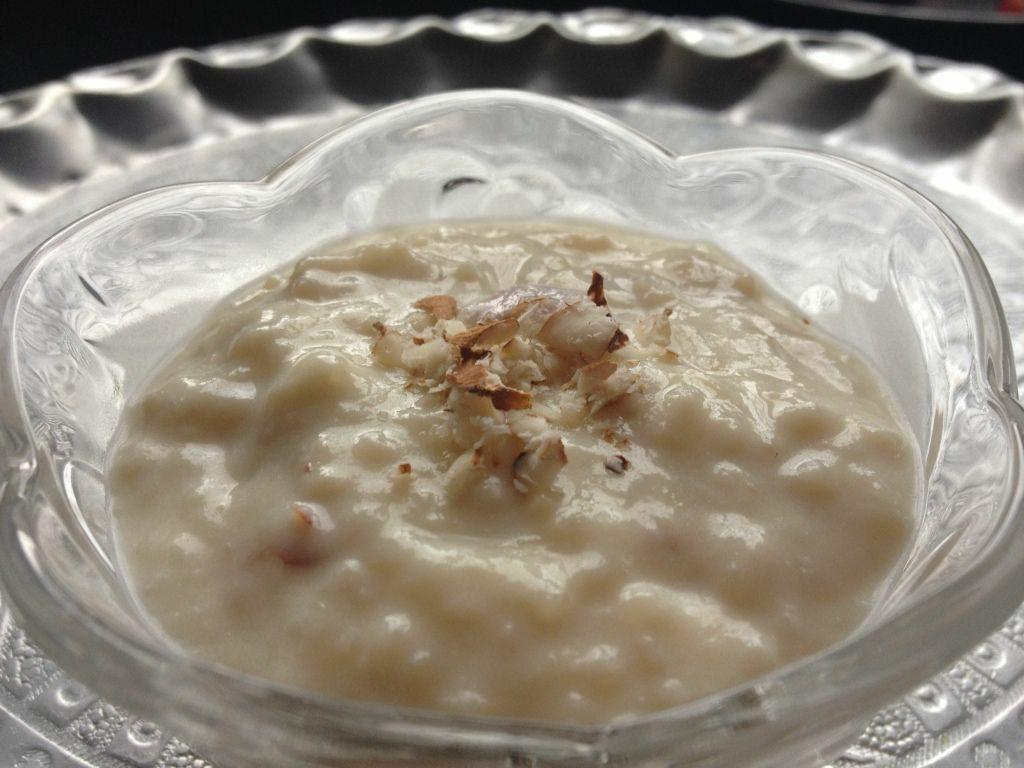Kheer: (107, 214, 921, 721)
